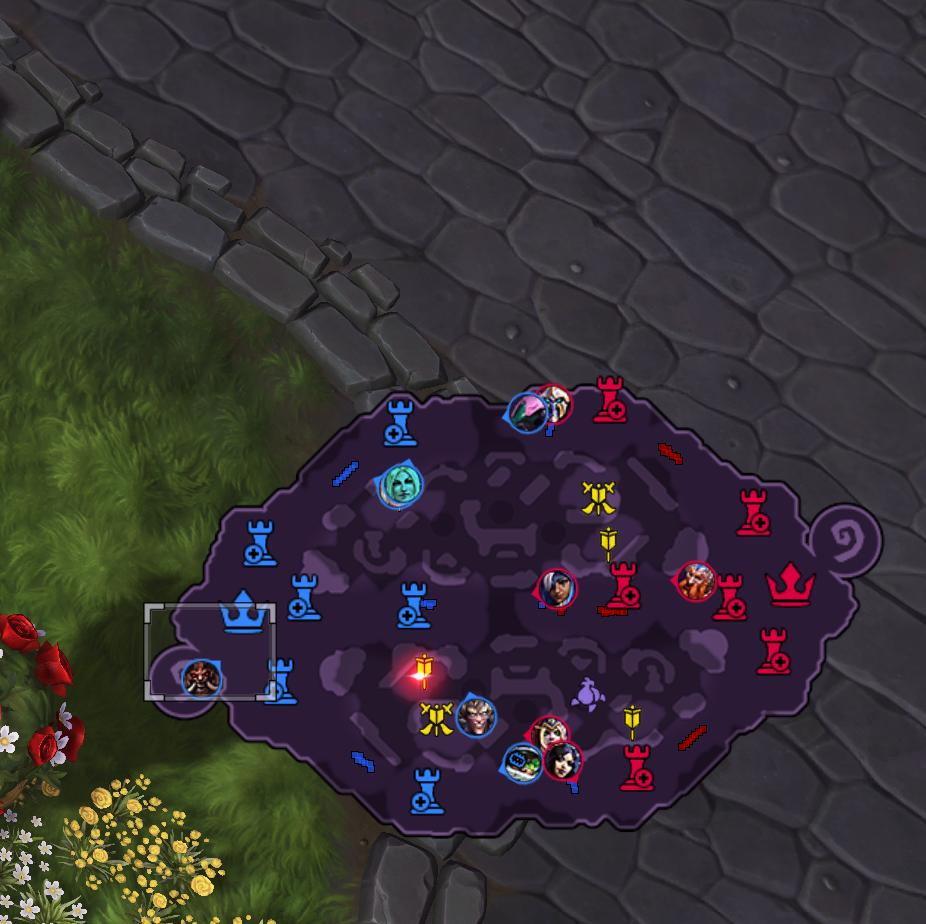blue player: (374, 460, 425, 510), (503, 391, 551, 433), (500, 741, 544, 786), (181, 658, 222, 698), (459, 699, 492, 734), (544, 571, 572, 605)
red player: (532, 564, 586, 614), (519, 710, 575, 752), (671, 559, 718, 604), (538, 740, 591, 778), (531, 387, 578, 428)
